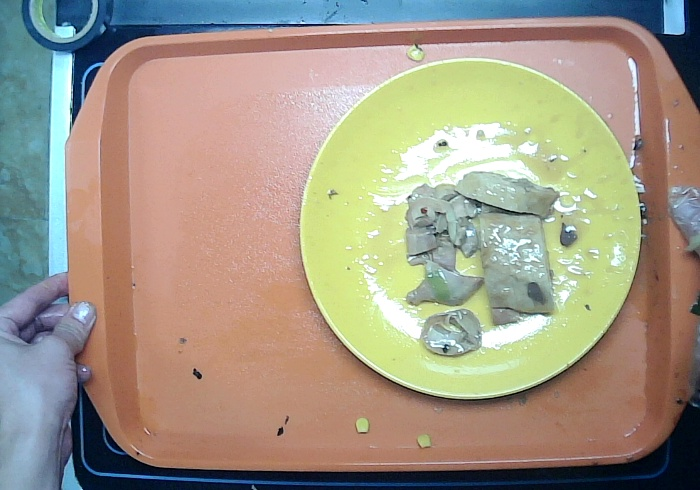HZYJPL-Huang_Se_Yuan_Pan: (292, 50, 645, 408)
